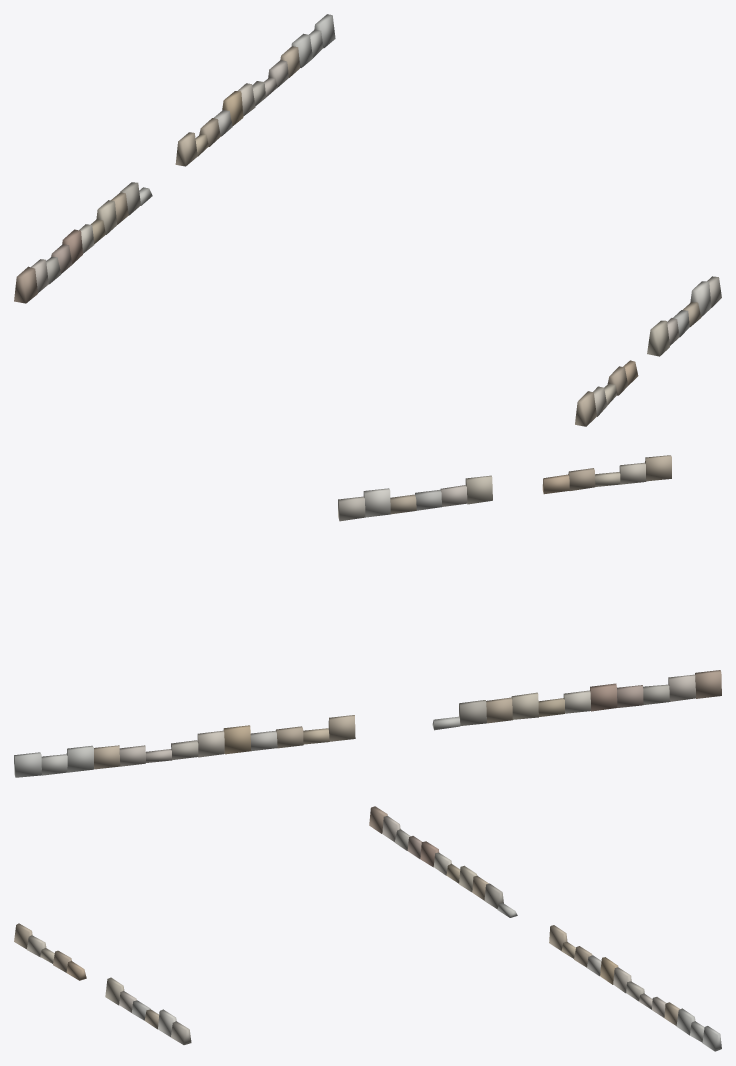
Rendered from farm_20_22_far.glb.
3 views of the same model, one above another, from view 1: azimuth 30°, elevation 25°; view 2: azimuth 150°, elevation 25°; view 3: azimuth 270°, elevation 25° (orthographic). The views are drawn at different scales.
Parts seen in each view (by area): view 1: geometry_0; view 2: geometry_0; view 3: geometry_0.
Boxes of the visible parts, x1,y1,x2,y2 form: geometry_0: (14, 14, 721, 426); geometry_0: (14, 455, 721, 777); geometry_0: (14, 806, 721, 1051).
Bounding box in the file's own units: 34.81 × 4.36 × 52.94.
